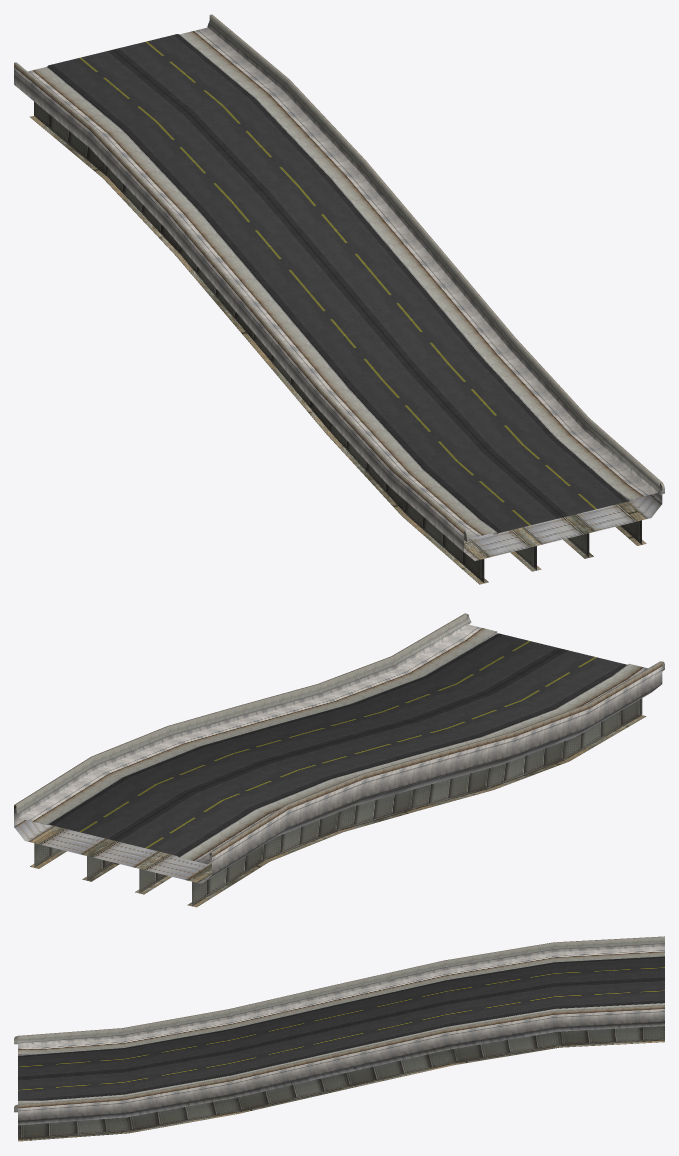
The model's file is Bridge-Ramp.fbx.
The picture shows the model from 3 angles, top to bottom: view 1: azimuth 30°, elevation 25°; view 2: azimuth 150°, elevation 25°; view 3: azimuth 270°, elevation 25°; orthographic projection. The views are drawn at different scales.
Parts seen in each view (by area): view 1: Bridge-Ramp; view 2: Bridge-Ramp; view 3: Bridge-Ramp.
Boxes of the visible parts, x1,y1,x2,y2 form: Bridge-Ramp: [14, 14, 664, 584]; Bridge-Ramp: [14, 613, 664, 907]; Bridge-Ramp: [14, 936, 664, 1141].
Size of the model in its own units: 2100 by 1987 by 8315.
